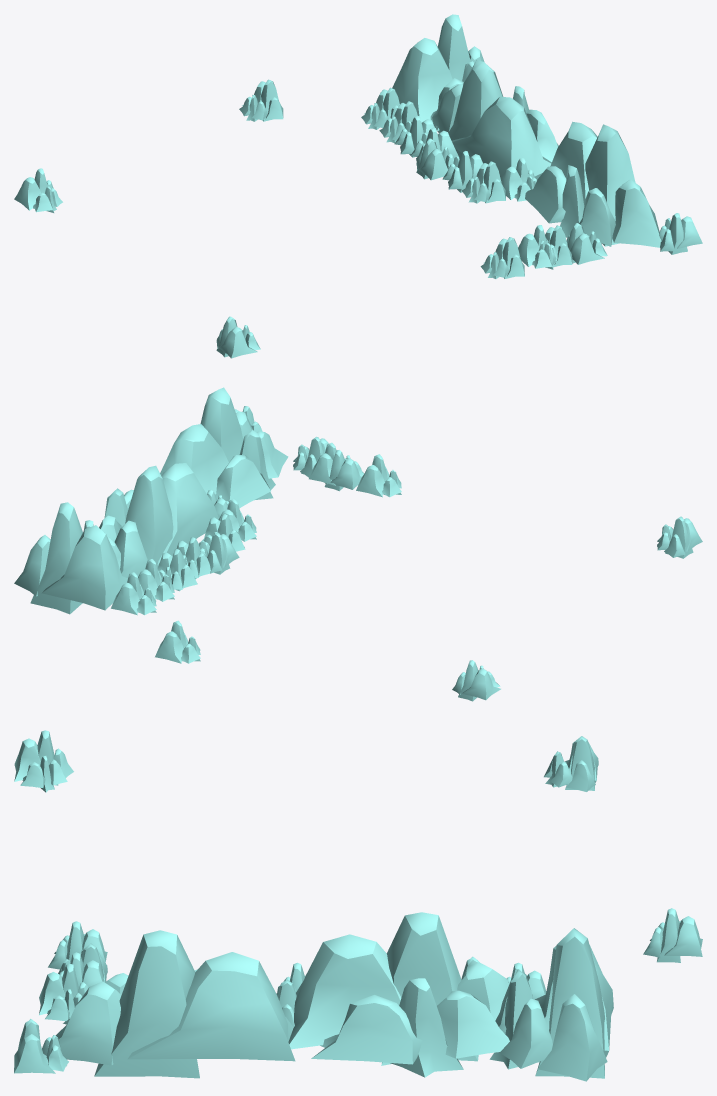
Rendered from object_58_lev2.glb.
3 views of the same model, one above another, from view 1: azimuth 30°, elevation 25°; view 2: azimuth 150°, elevation 25°; view 3: azimuth 270°, elevation 25° (orthographic). The views are drawn at different scales.
Parts seen in each view (by area): view 1: object_58_lev2; view 2: object_58_lev2; view 3: object_58_lev2.
Part boxes in pixels (x1,y1,x2,y2): object_58_lev2: [14, 14, 702, 358]; object_58_lev2: [14, 387, 702, 701]; object_58_lev2: [14, 730, 702, 1081].
Bounding box in the file's own units: 83.6 × 16.54 × 77.62.
